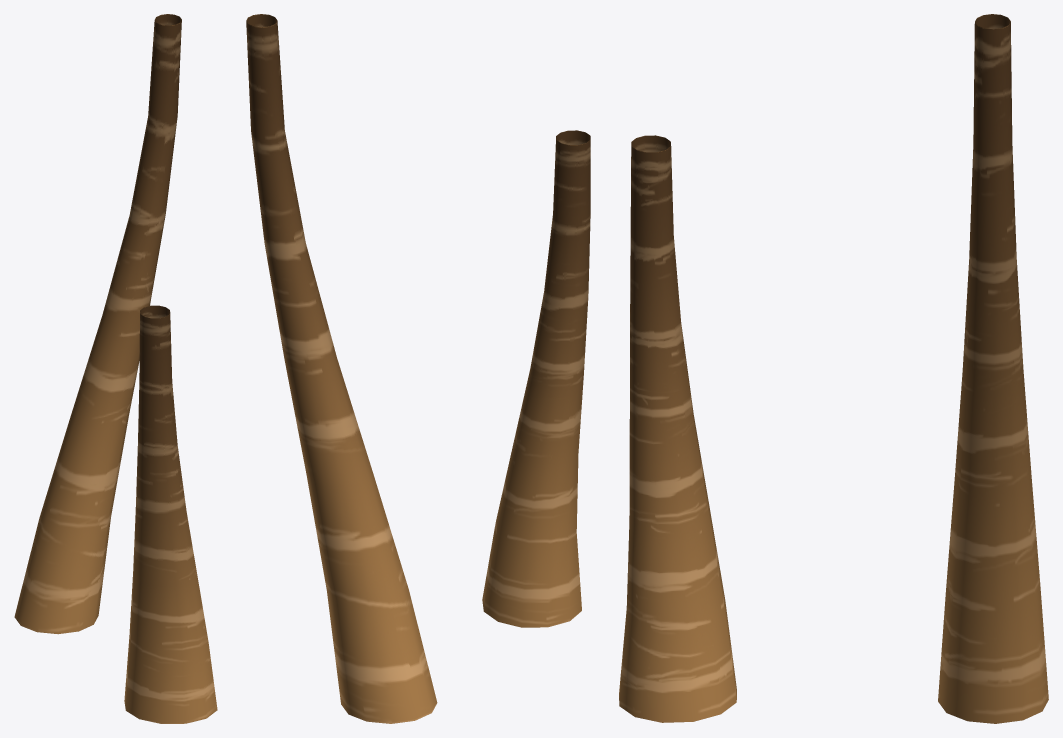
Rendered from start_001.glb.
The picture shows the model from 3 angles, left to right: view 1: azimuth 30°, elevation 25°; view 2: azimuth 150°, elevation 25°; view 3: azimuth 270°, elevation 25°; orthographic projection. The views are drawn at different scales.
Visible parts, largest first — view 1: tree1, tree2; view 2: tree1, tree2; view 3: tree1, tree2.
Part boxes in pixels (x1,y1,x2,y2): tree1: [14, 14, 181, 634]; tree2: [124, 305, 217, 723]; tree1: [246, 14, 437, 723]; tree2: [482, 130, 590, 627]; tree1: [938, 14, 1048, 723]; tree2: [619, 135, 736, 722].
Bounding box in the file's own units: 1.23 × 3.99 × 2.07.
1 material, 1 textured.
